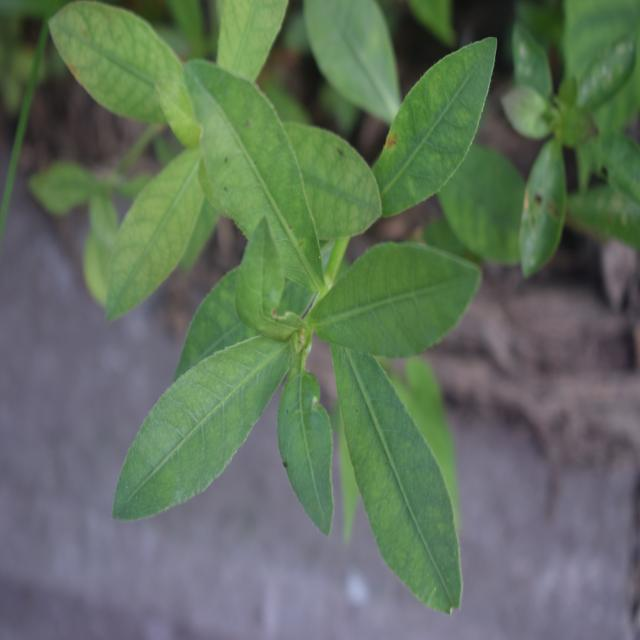Alligatorweed: (130, 60, 492, 618)
